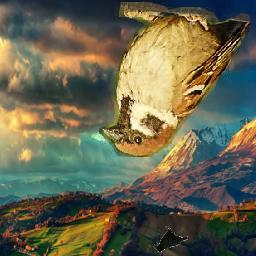Crow: (152, 227, 188, 254)
Sparrow: (100, 3, 251, 158)
